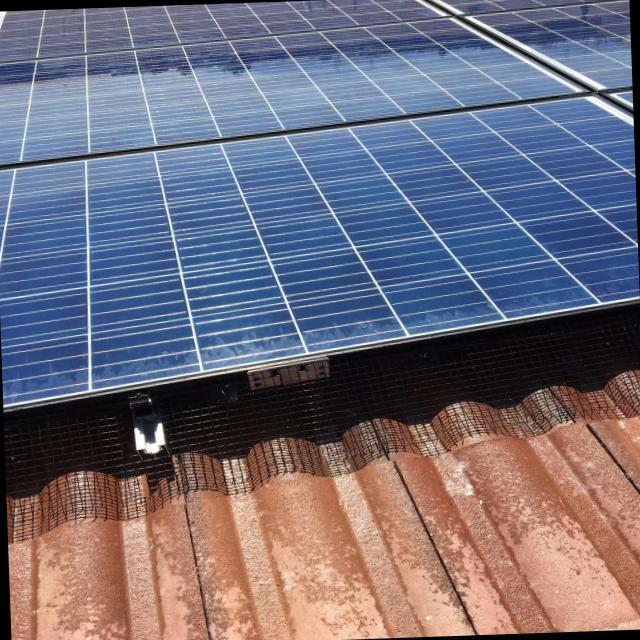faulty: (3, 272, 636, 405)
no faulty: (0, 0, 637, 267)
